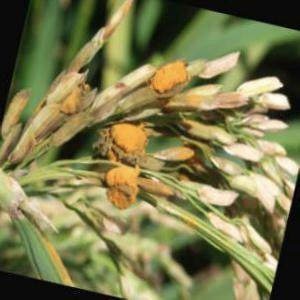Leaf_Scald: (100, 119, 150, 215), (148, 61, 196, 90), (160, 142, 193, 174)
